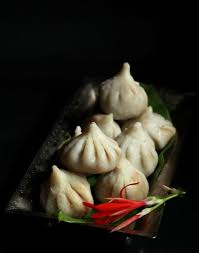modak: (87, 52, 152, 117), (39, 161, 93, 226), (60, 124, 124, 171), (116, 118, 167, 176), (102, 153, 153, 200)
